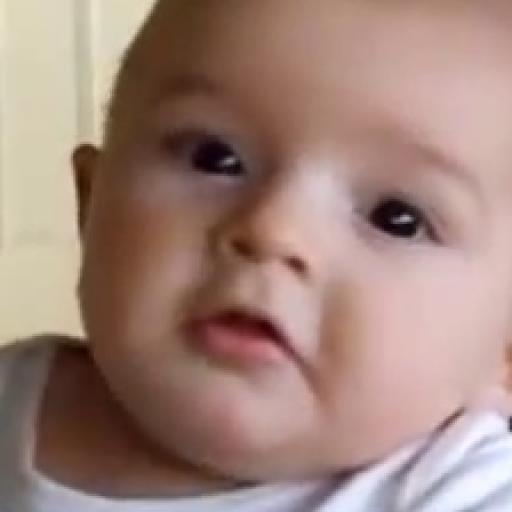Autism: (72, 17, 512, 512)
